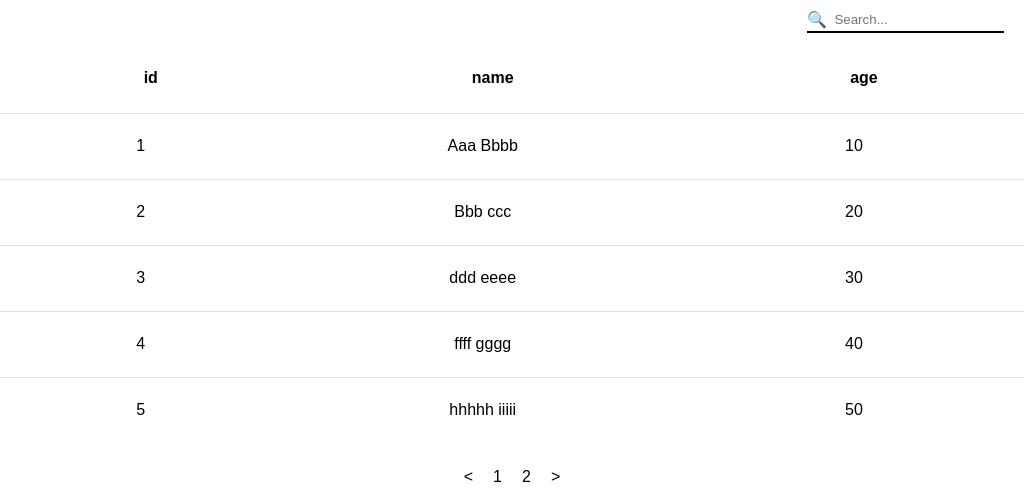
Test case: CustomTable › pagination works
Click the text ">" at (556,477), box top-left (551, 468), bottom-right (560, 486)
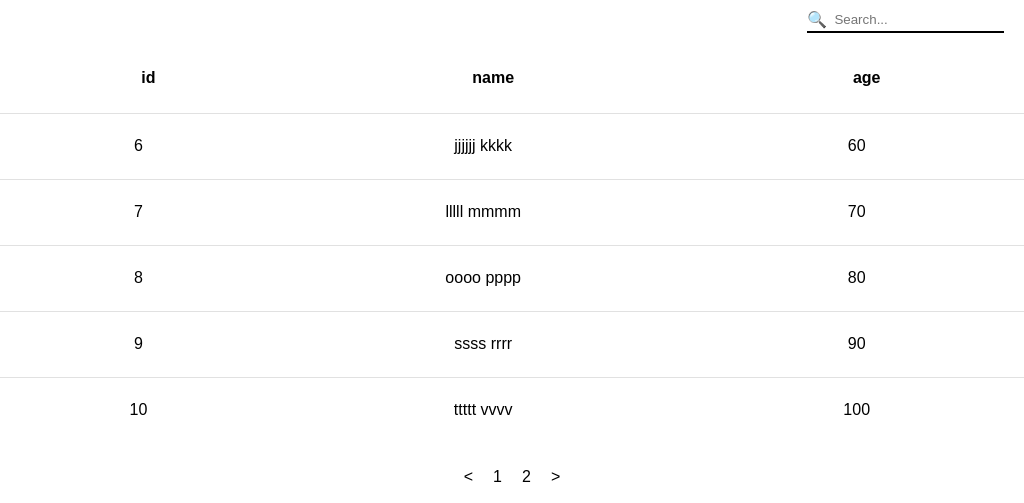
Check: the text "oooo pppp" is shown, box top-left (277, 245), bottom-right (690, 311)
